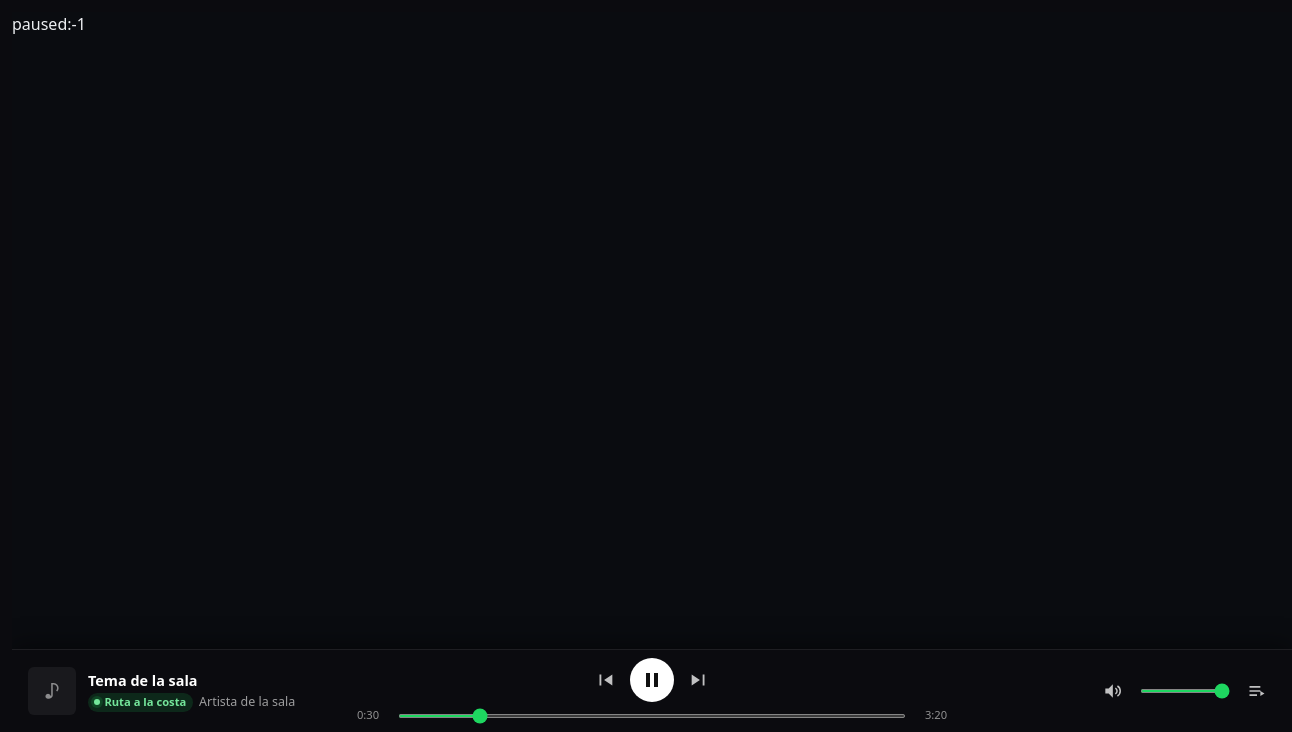
it: NowPlayingBar — a transport command that does not land › announces a refusal, and says it is about permission
Click the button named "Pausar": point(652, 680) [630,658,674,702]
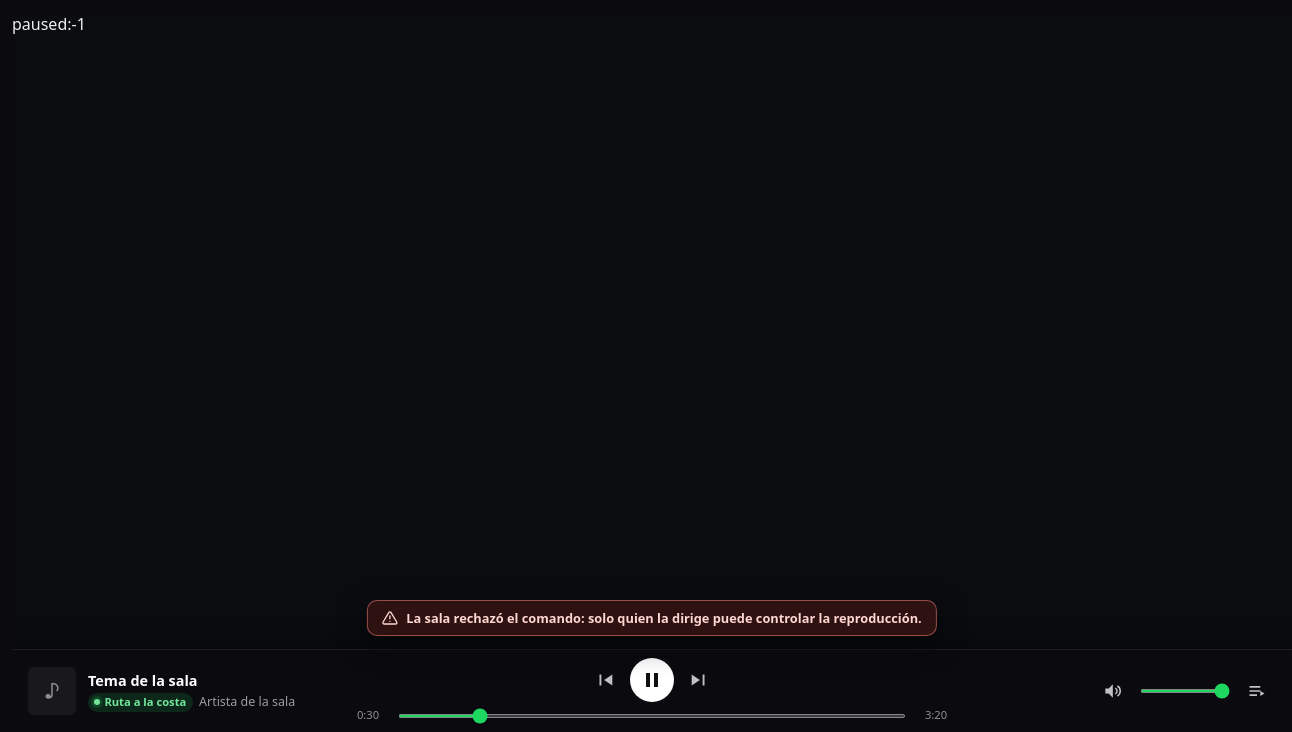
Result: the message shows "solo quien la dirige puede controlar la reproducción" at [406,609,922,627]
